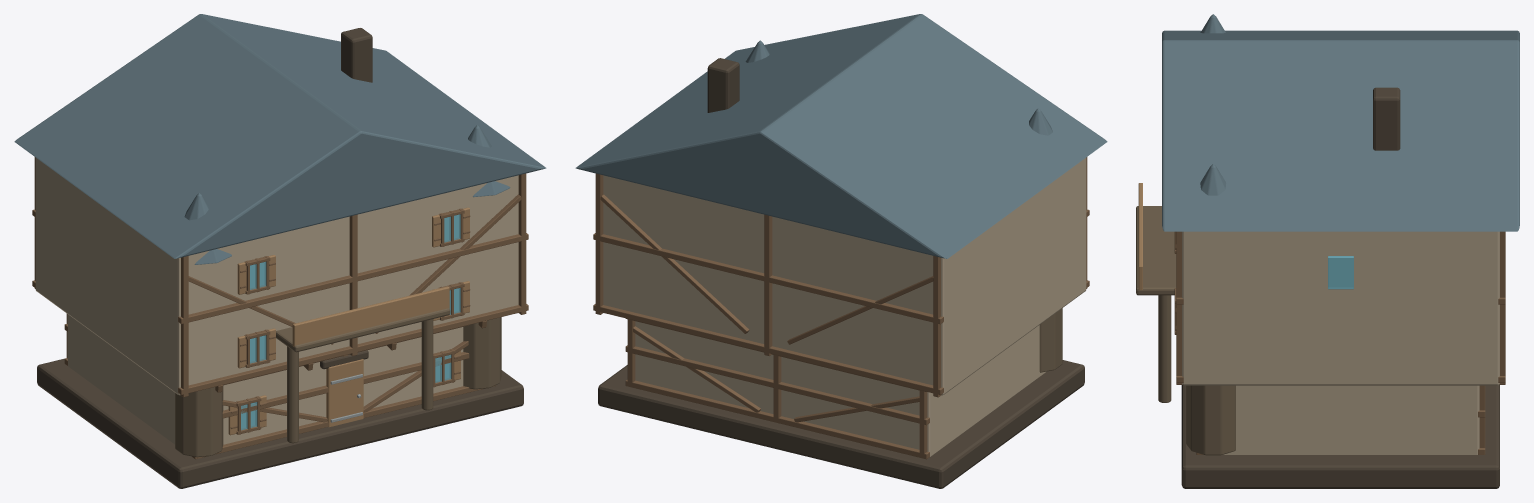
Rendered from noble_estate.glb.
The picture shows the model from 3 angles, left to right: view 1: azimuth 30°, elevation 25°; view 2: azimuth 150°, elevation 25°; view 3: azimuth 270°, elevation 25°; orthographic projection. The views are drawn at different scales.
Visible parts, largest first — view 1: Roof, OverhangingUpperFloor, StoneFoundation, GroundFloor, BalconyRail, CornerOriel, TimberBeam.008, TimberBeam.006, CornerOriel.001, INTERACT_Door, TimberBeam, Chimney (+12 smaller); view 2: Roof, OverhangingUpperFloor, GroundFloor, StoneFoundation, TimberBeam.007, TimberBeam.009, TimberBeam.003, TimberBeam.001, Chimney, CornerOriel, DiagonalBrace.007, TimberPost.009 (+5 smaller); view 3: Roof, OverhangingUpperFloor, GroundFloor, StoneFoundation, CornerOriel.001, NobleBalcony, Chimney, BalconySupport.001, WindowGlass.007, TimberPost.010, TimberPost.011, OrielRoof.001 (+1 smaller).
Part boxes in pixels (x1,y1,x2,y2): Roof: (14,14,546,258); OverhangingUpperFloor: (35,158,518,395); StoneFoundation: (37,358,523,488); GroundFloor: (67,314,463,456); BalconyRail: (292,286,449,346); CornerOriel: (175,385,223,457); TimberBeam.008: (178,233,528,324); TimberBeam.006: (178,304,528,394); CornerOriel.001: (463,317,501,389); INTERACT_Door: (326,359,363,427); TimberBeam: (192,385,496,459); Chimney: (341,28,372,82); Roof: (575,14,1107,258); OverhangingUpperFloor: (603,158,1086,395); GroundFloor: (635,321,1046,456); StoneFoundation: (598,360,1084,488); TimberBeam.007: (593,304,943,394); TimberBeam.009: (593,233,943,324); TimberBeam.003: (625,345,929,425); TimberBeam.001: (625,379,929,459); Chimney: (707,58,739,112); CornerOriel: (1039,308,1062,372); DiagonalBrace.007: (600,194,749,333); TimberPost.009: (764,214,772,355); Roof: (1162,30,1519,231); OverhangingUpperFloor: (1182,231,1499,385); GroundFloor: (1223,385,1479,454); StoneFoundation: (1181,385,1499,488); CornerOriel.001: (1186,385,1235,455); NobleBalcony: (1136,206,1176,295); Chimney: (1373,87,1400,150); BalconySupport.001: (1158,295,1171,402); WindowGlass.007: (1328,256,1353,289); TimberPost.010: (1176,231,1182,384); TimberPost.011: (1499,231,1505,384); OrielRoof.001: (1200,164,1226,195).
Size of the model in its own units: 12.45 by 10.35 by 10.07.
